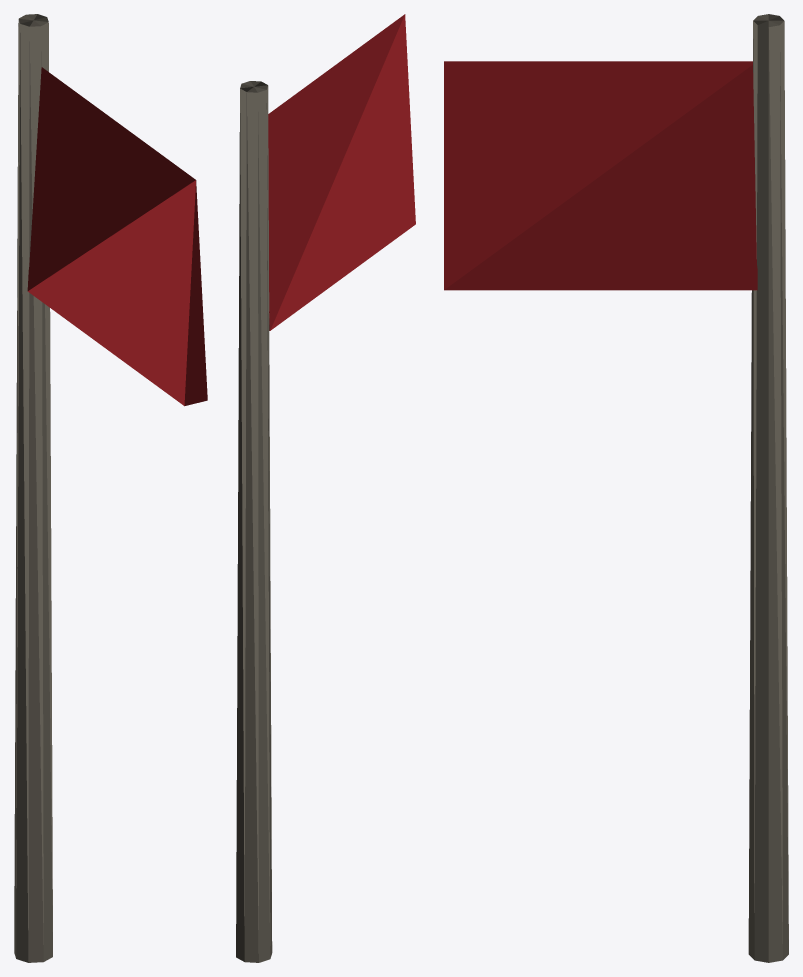
Rendered from banner.obj.
The picture shows the model from 3 angles, left to right: view 1: azimuth 30°, elevation 25°; view 2: azimuth 150°, elevation 25°; view 3: azimuth 270°, elevation 25°; orthographic projection. The views are drawn at different scales.
Visible parts, largest first — view 1: banner_cloth, banner_pole; view 2: banner_cloth, banner_pole; view 3: banner_cloth, banner_pole.
Boxes of the visible parts, bbox=[...] form: banner_cloth: bbox=[27, 67, 207, 406]; banner_pole: bbox=[14, 14, 52, 962]; banner_cloth: bbox=[268, 14, 415, 330]; banner_pole: bbox=[236, 81, 272, 962]; banner_cloth: bbox=[444, 61, 757, 290]; banner_pole: bbox=[748, 14, 788, 962].
Bounding box in the file's own units: 0.18 × 4.6 × 1.54.
